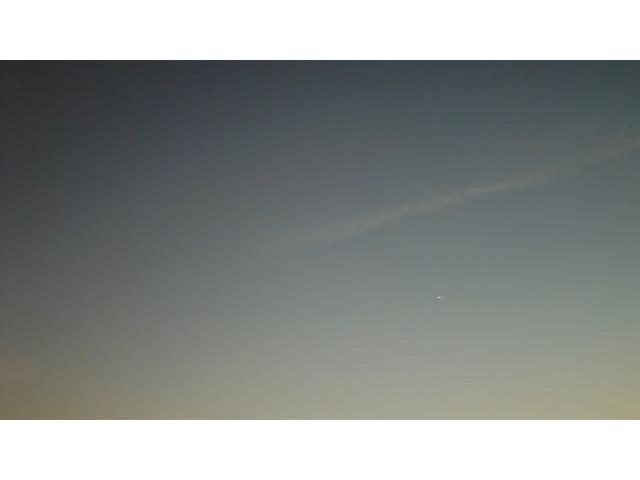Anti-Drone: (434, 292, 450, 304)
